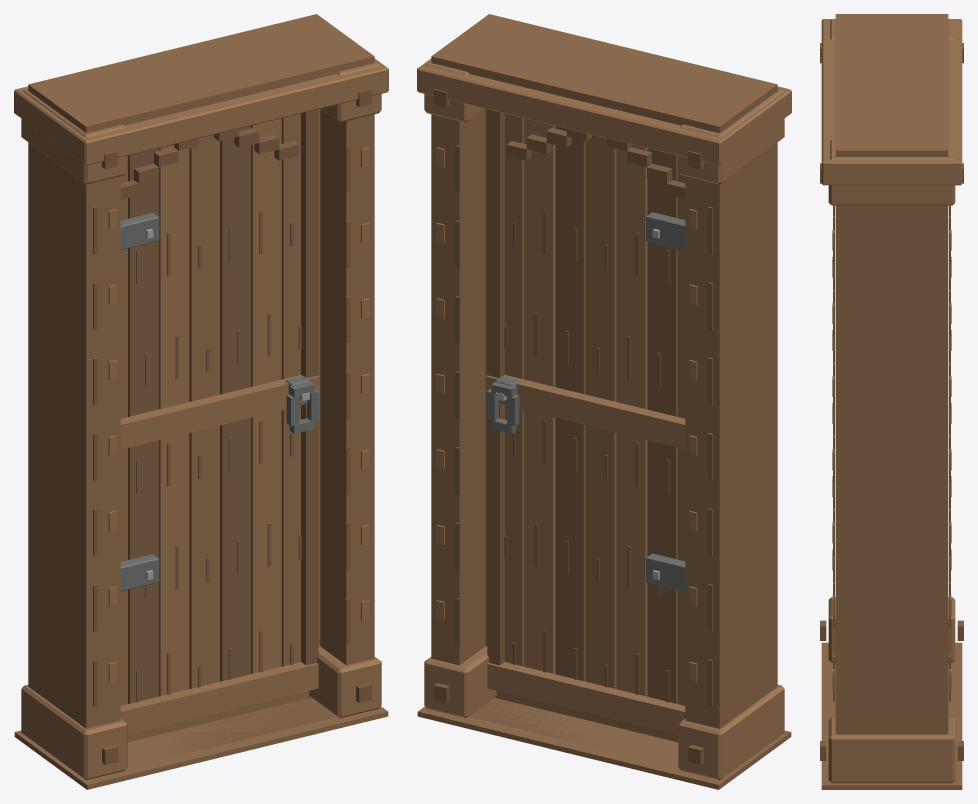
Rendered from spruce_door.gltf.
3 views of the same model, side by side, from view 1: azimuth 30°, elevation 25°; view 2: azimuth 150°, elevation 25°; view 3: azimuth 270°, elevation 25° (orthographic). The views are drawn at different scales.
Bounding box in the file's own units: 0.97 × 2 × 0.41.
